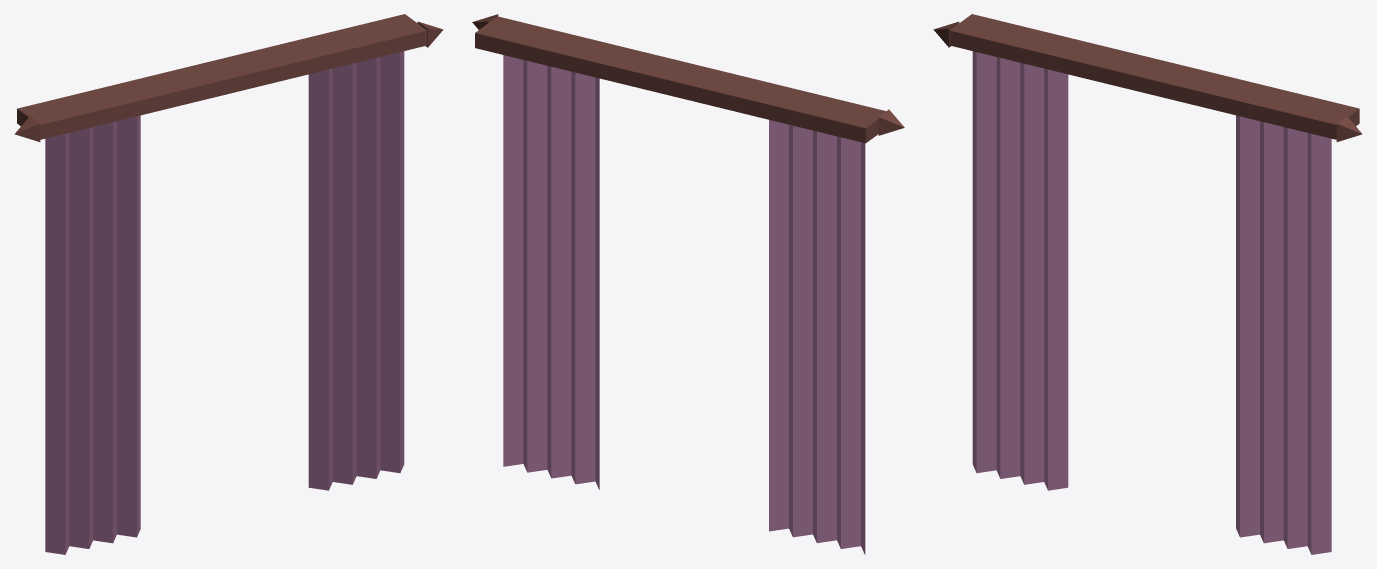
The model's file is Curtain_2.fbx.
3 renders of one model, left to right at view 1: azimuth 30°, elevation 25°; view 2: azimuth 150°, elevation 25°; view 3: azimuth 330°, elevation 25°, orthographic.
Parts seen in each view (by area): view 1: polySurface2293; view 2: polySurface2293; view 3: polySurface2293.
Part boxes in pixels (x1,y1,x2,y2): polySurface2293: (14, 14, 443, 554); polySurface2293: (472, 14, 904, 554); polySurface2293: (933, 14, 1362, 554).
Size of the model in its own units: 3.16 by 3.08 by 0.2946.
Materials: 1 (1 with a texture image).
